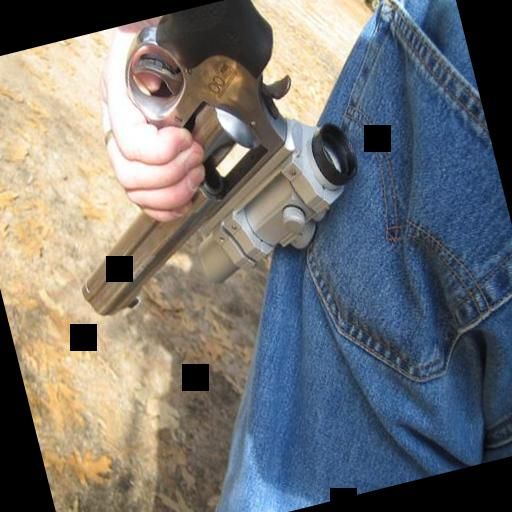Handgun: (19, 0, 377, 319)
